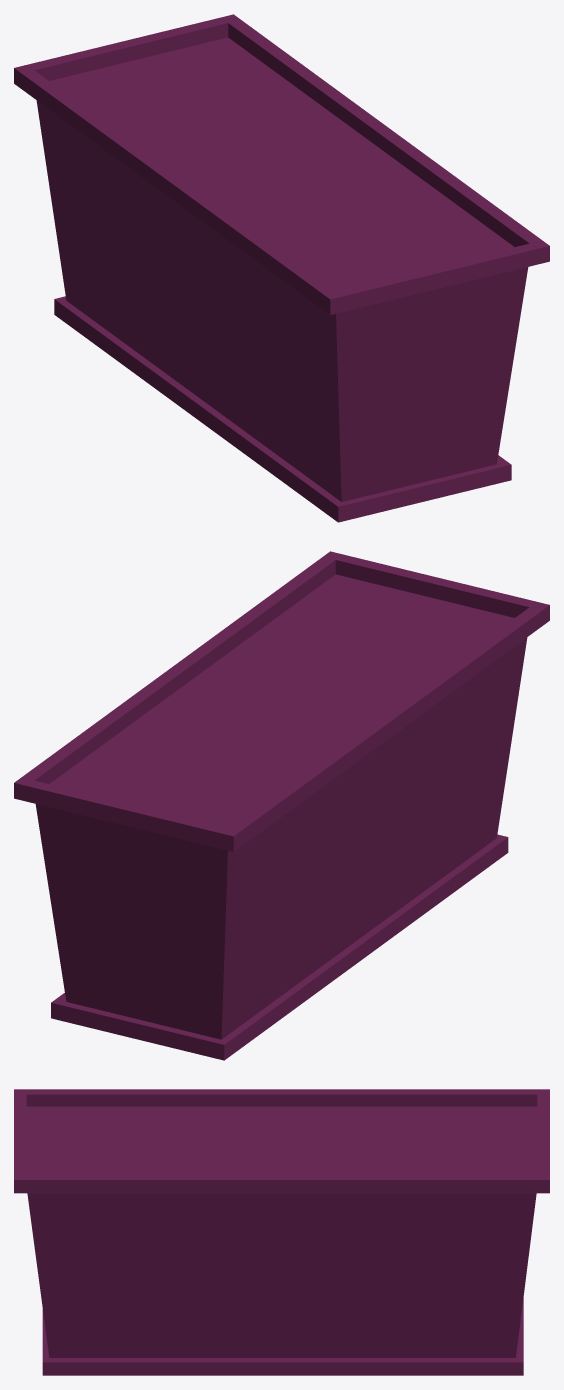
Rendered from Plants_f_parterre_01_11.FBX.
The picture shows the model from 3 angles, top to bottom: view 1: azimuth 30°, elevation 25°; view 2: azimuth 150°, elevation 25°; view 3: azimuth 270°, elevation 25°; orthographic projection. The views are drawn at different scales.
Parts seen in each view (by area): view 1: Plants_f_parterre_01_11_LOD0; view 2: Plants_f_parterre_01_11_LOD0; view 3: Plants_f_parterre_01_11_LOD0.
Boxes of the visible parts, x1,y1,x2,y2 form: Plants_f_parterre_01_11_LOD0: (14,14,549,522); Plants_f_parterre_01_11_LOD0: (14,551,549,1060); Plants_f_parterre_01_11_LOD0: (14,1089,549,1375).
Size of the model in its own units: 98.89 by 104 by 247.
